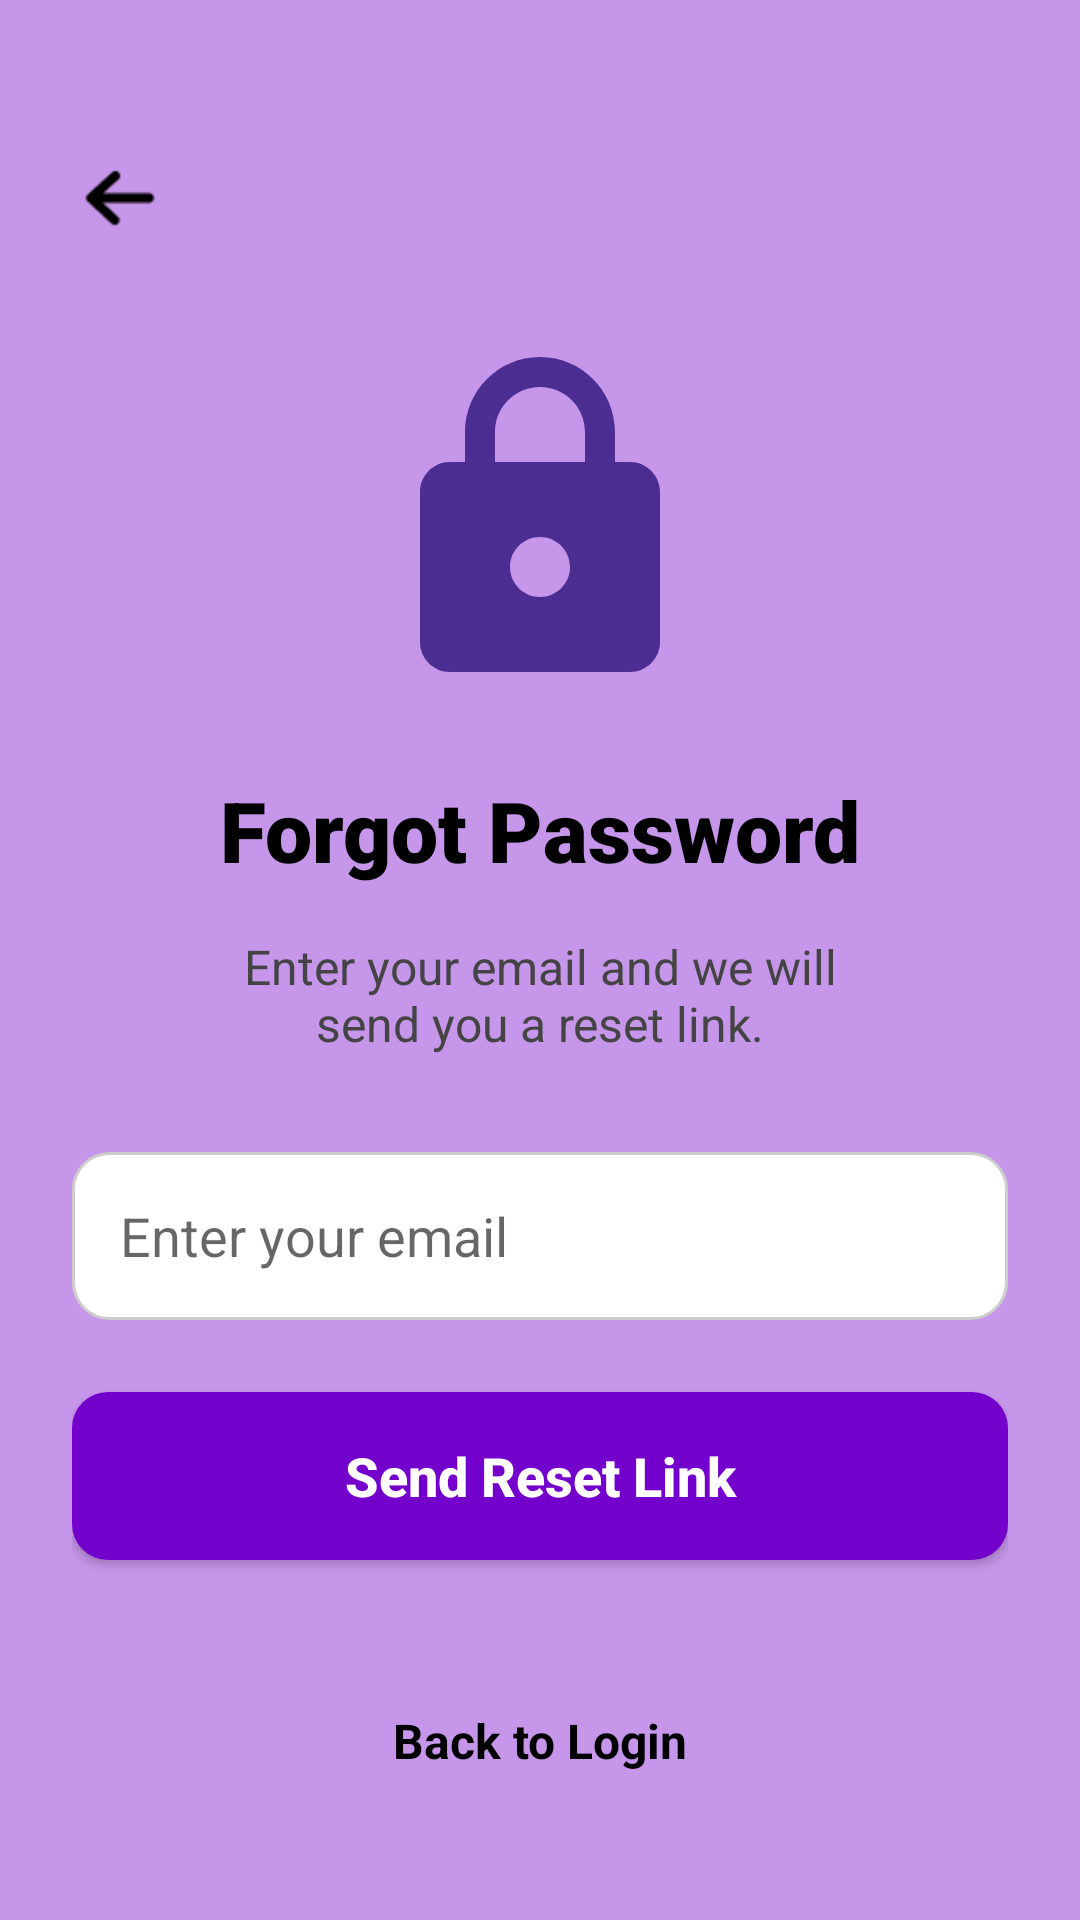

Icons on this 1080 x 1920 Android screen, each with the point to tap as (x=x, y=y):
back arrow: (x=120, y=198)
lock: (x=540, y=514)
